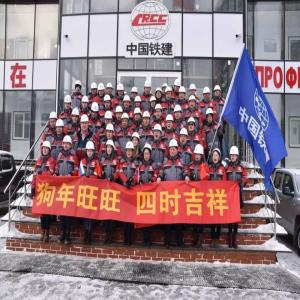white: (230, 145, 240, 163), (144, 143, 153, 163), (180, 128, 189, 147), (81, 115, 90, 134), (195, 145, 205, 162), (56, 119, 65, 137), (170, 141, 180, 157), (42, 141, 52, 157), (206, 108, 215, 125), (143, 111, 152, 128), (126, 143, 135, 160), (106, 124, 115, 141), (106, 140, 115, 157), (212, 149, 222, 164), (188, 117, 197, 133), (91, 103, 100, 119), (87, 142, 96, 158), (64, 136, 73, 152), (155, 125, 163, 142), (50, 112, 58, 129), (132, 133, 141, 148), (122, 114, 131, 129), (155, 104, 163, 120), (65, 96, 73, 112), (105, 111, 113, 126), (167, 115, 174, 131), (214, 85, 222, 99), (204, 88, 212, 102), (179, 87, 187, 101), (135, 108, 143, 122), (124, 96, 132, 110), (104, 95, 112, 109), (175, 105, 182, 120), (166, 86, 173, 101), (145, 81, 152, 96), (118, 84, 125, 98), (117, 107, 124, 121), (99, 83, 106, 97), (82, 96, 89, 110), (73, 110, 80, 124), (189, 96, 197, 108), (91, 83, 99, 95), (75, 81, 83, 93), (190, 84, 197, 96), (175, 79, 181, 93), (136, 96, 143, 108), (132, 87, 138, 100), (156, 89, 163, 100), (107, 84, 114, 95), (163, 83, 169, 95), (151, 97, 157, 109)
